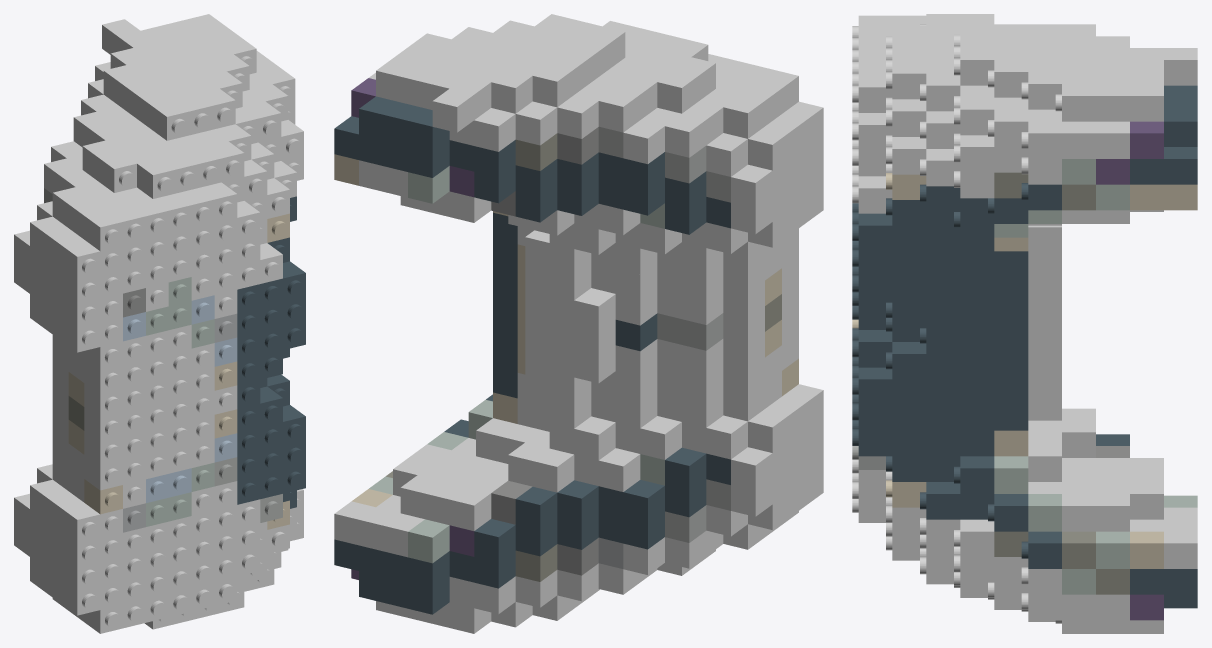
File: full.glb
3 views of the same model, side by side, from view 1: azimuth 30°, elevation 25°; view 2: azimuth 150°, elevation 25°; view 3: azimuth 270°, elevation 25° (orthographic). The views are drawn at different scales.
Parts seen in each view (by area): view 1: world; view 2: world; view 3: world.
Boxes of the visible parts, x1,y1,x2,y2 form: world: (14,14,305,633); world: (334,14,823,633); world: (852,14,1197,633).
Size of the model in its own units: 104 by 168 by 97.8.
